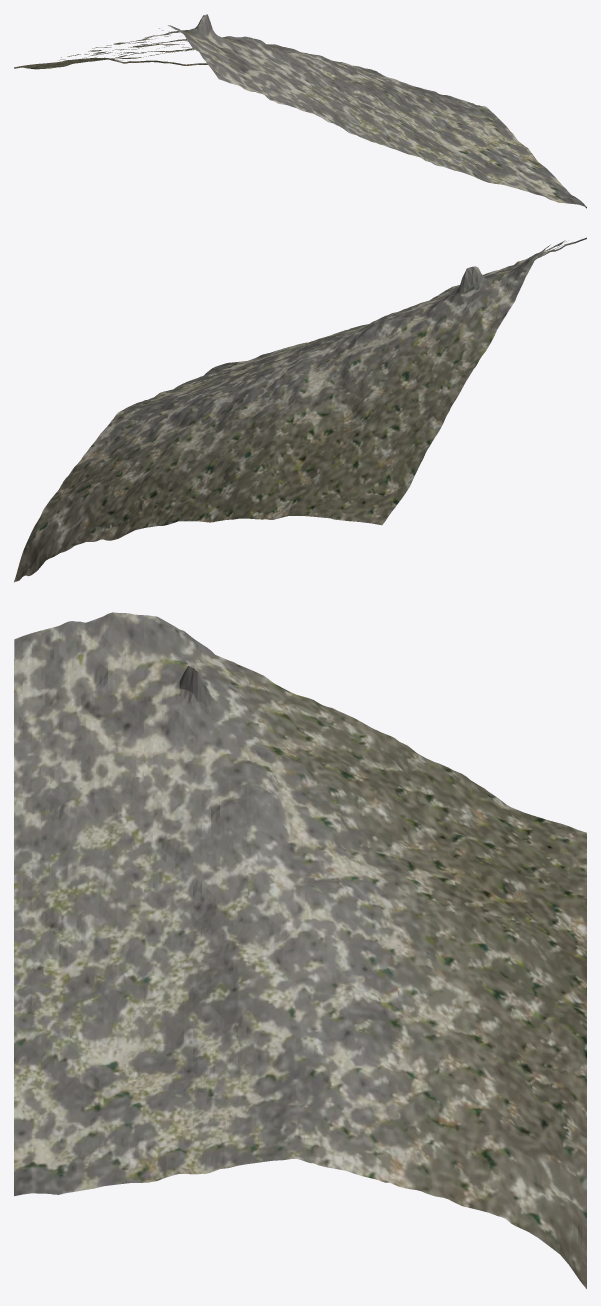
3 renders of one model, top to bottom at view 1: azimuth 30°, elevation 25°; view 2: azimuth 150°, elevation 25°; view 3: azimuth 270°, elevation 25°, orthographic. The views are drawn at different scales.
Bounding box in the file's own units: 250 × 198 × 241.
Materials: 1 (1 with a texture image).
